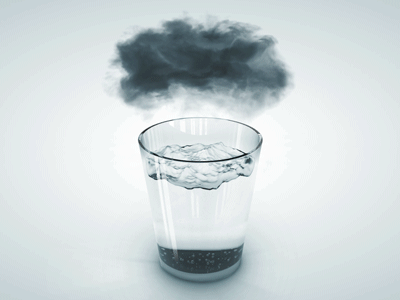glass of water: (147, 123, 264, 278)
